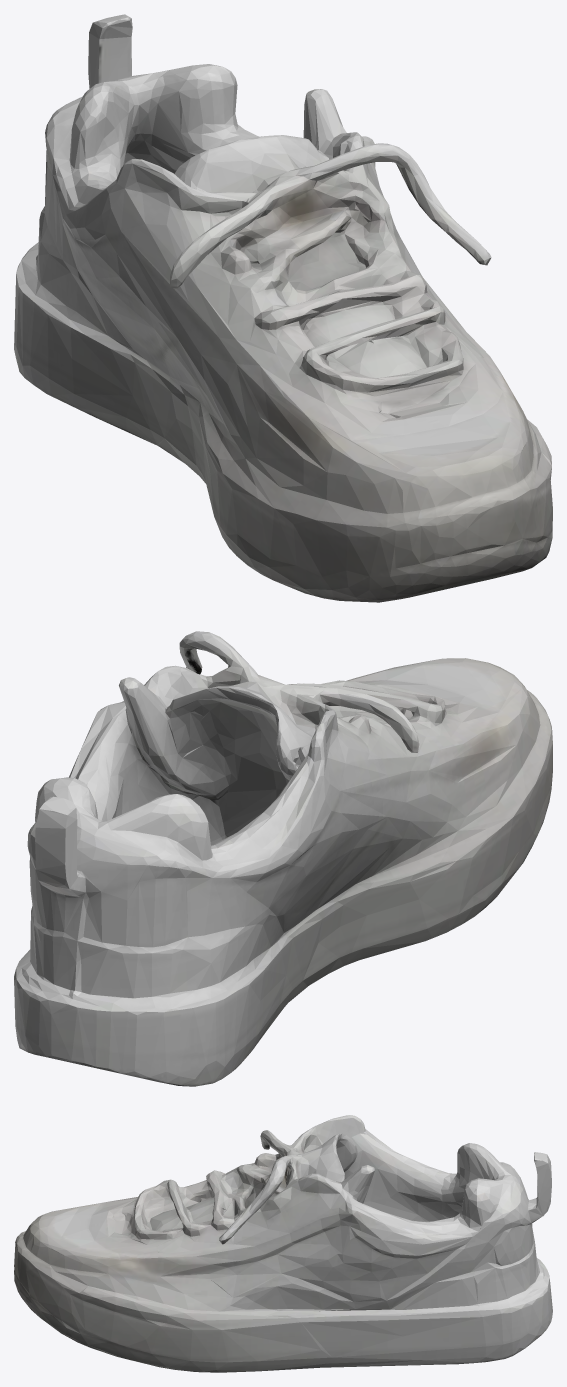
3 renders of one model, top to bottom at view 1: azimuth 30°, elevation 25°; view 2: azimuth 150°, elevation 25°; view 3: azimuth 270°, elevation 25°, orthographic. The views are drawn at different scales.
Parts seen in each view (by area): view 1: geometry_0; view 2: geometry_0; view 3: geometry_0.
Boxes of the visible parts, x1,y1,x2,y2 form: geometry_0: (14,14,552,602); geometry_0: (14,631,552,1086); geometry_0: (14,1115,552,1372).
Size of the model in its own units: 0.3768 by 0.4009 by 0.9991.
1 material, 1 textured.
